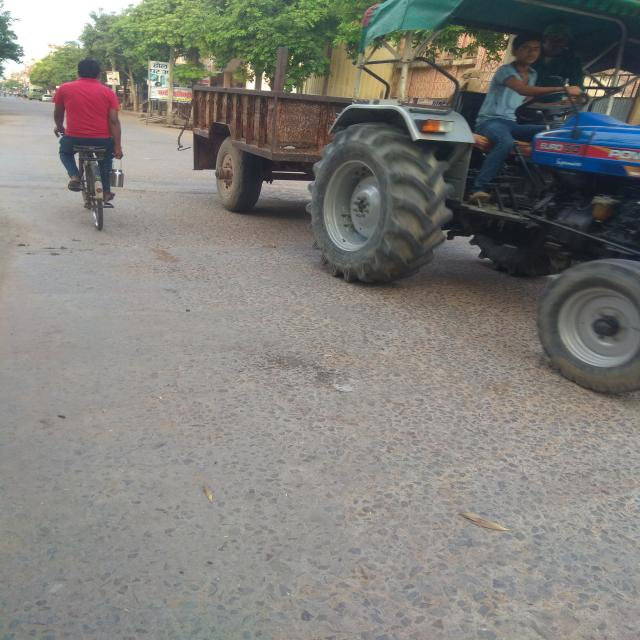Tractor: (169, 0, 640, 389)
